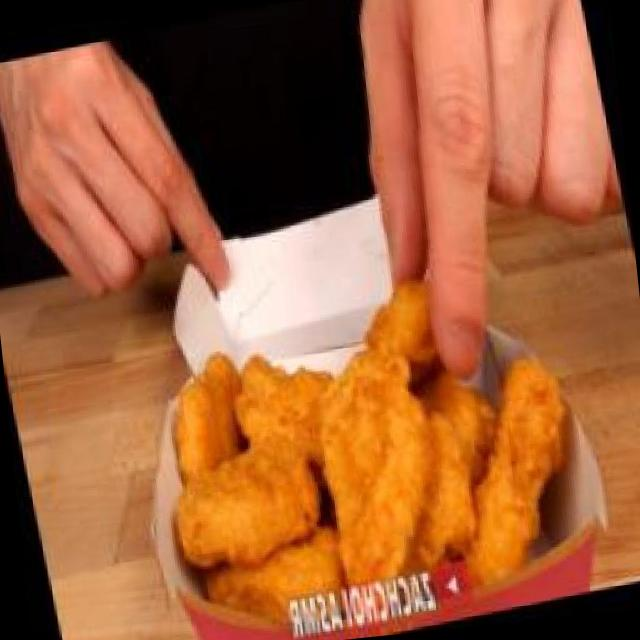nugget: (110, 188, 616, 640)
